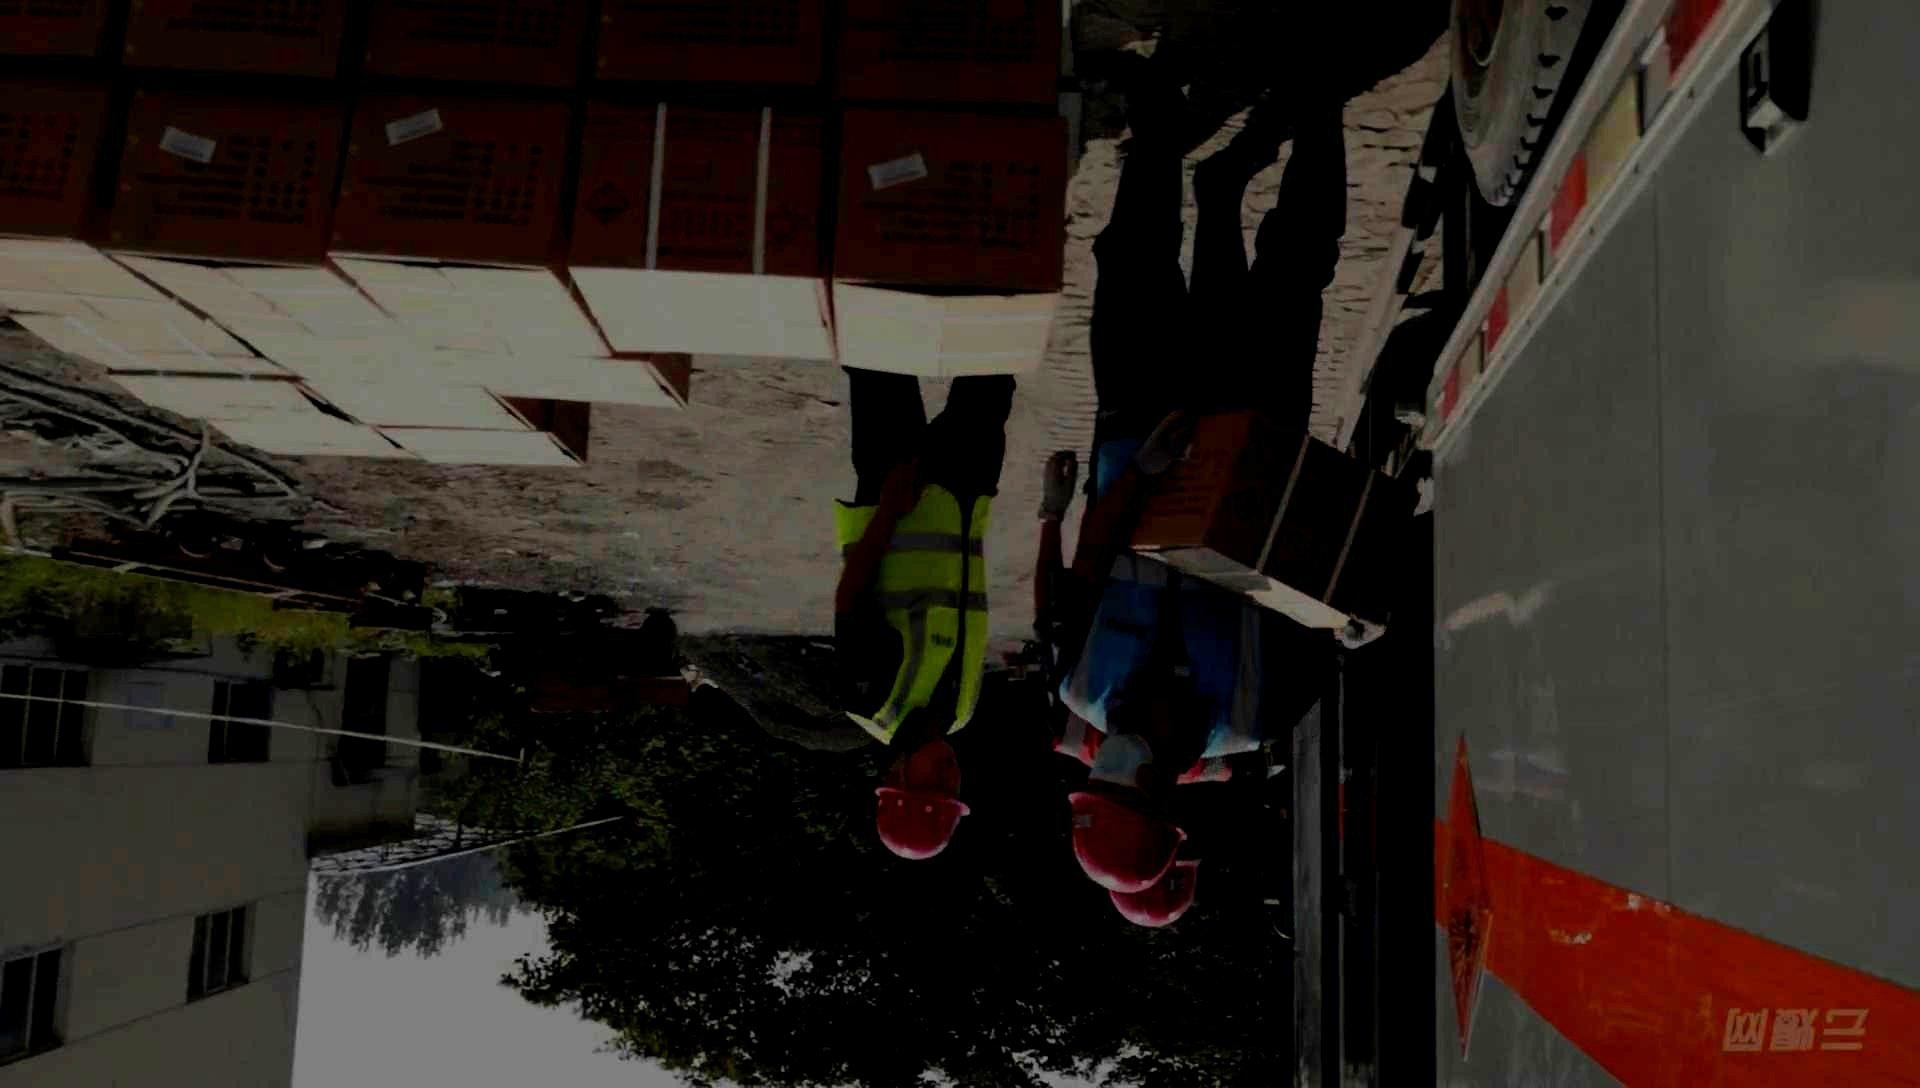helmet: (1068, 732, 1187, 894), (874, 739, 971, 860), (1109, 844, 1201, 928)
